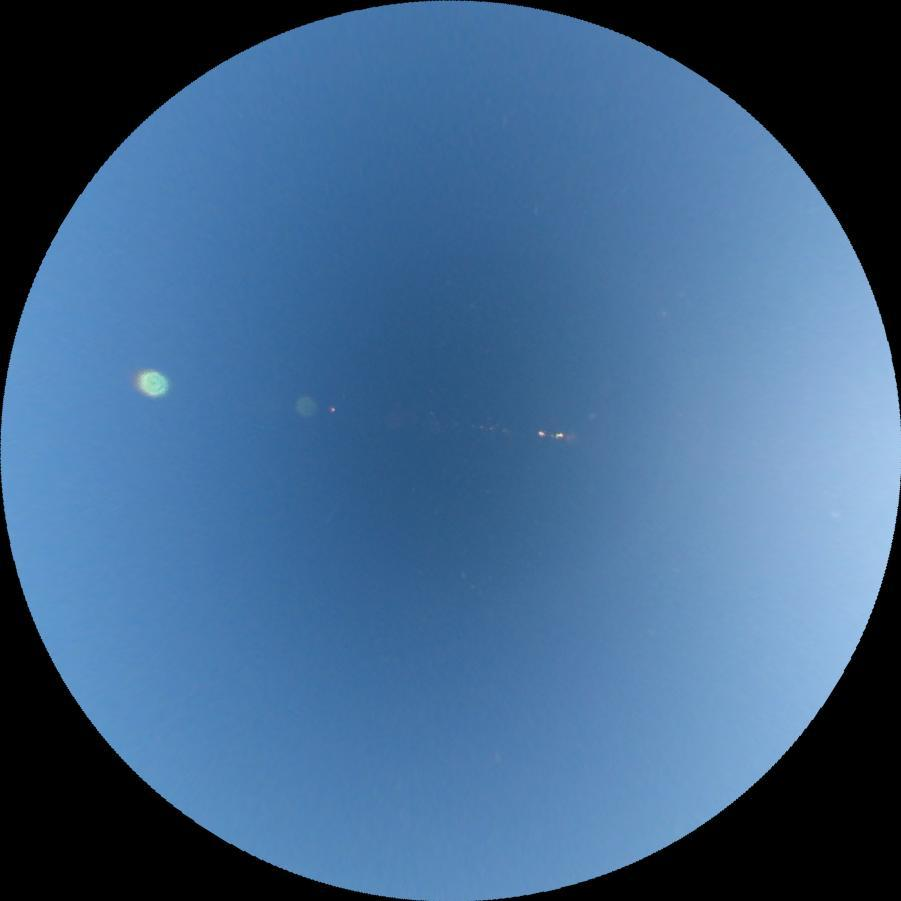contrail young: (322, 497, 344, 528)
